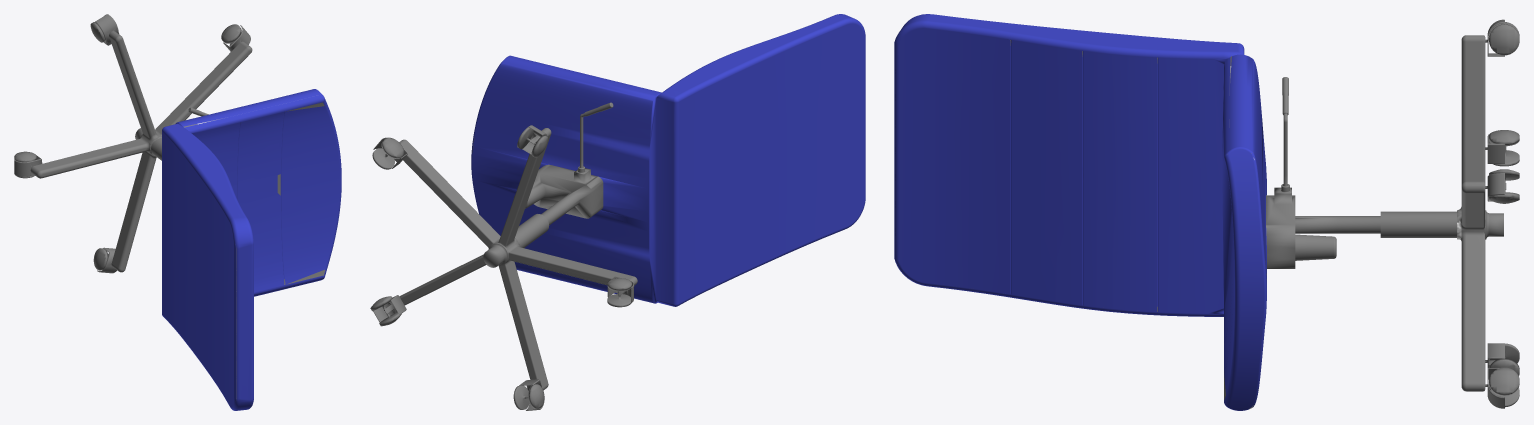
Rendered from chair_blue.dae.
3 renders of one model, left to right at view 1: azimuth 30°, elevation 25°; view 2: azimuth 150°, elevation 25°; view 3: azimuth 270°, elevation 25°, orthographic. The views are drawn at different scales.
Parts seen in each view (by area): view 1: transform1; view 2: transform1; view 3: transform1.
Part boxes in pixels (x1,y1,x2,y2): transform1: (14,14,341,410); transform1: (370,14,865,410); transform1: (894,14,1519,410).
Bounding box in the file's own units: 0.6456 × 0.6765 × 1.07.
1 material, 1 textured.
